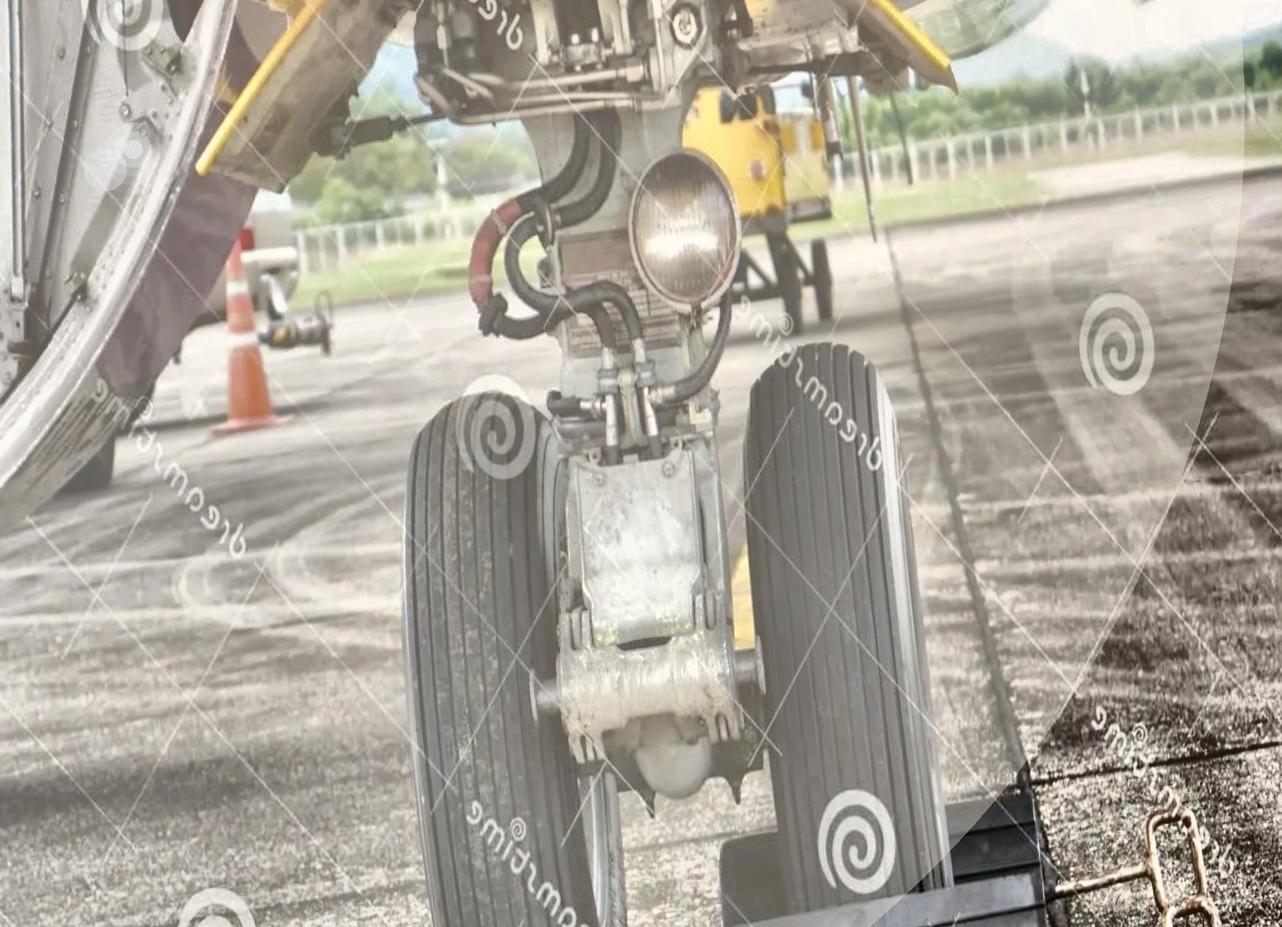chock: (707, 770, 1057, 927)
wheel: (384, 376, 651, 927), (722, 320, 950, 915)
